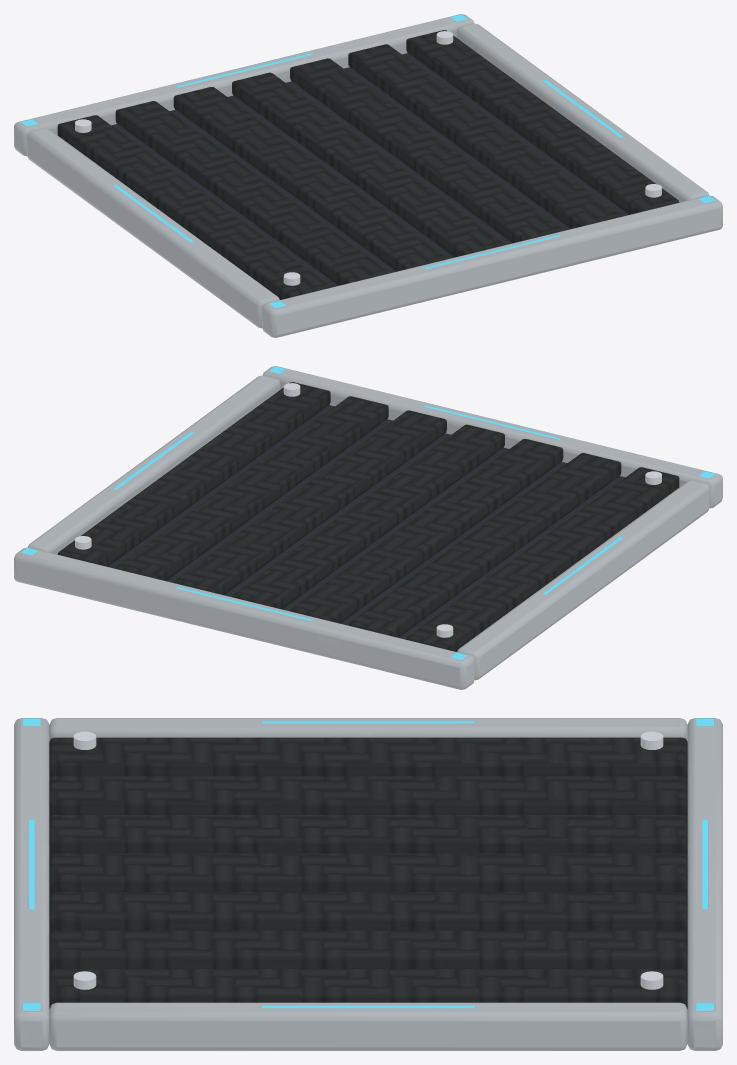
File: hull_enterprise_platform.glb
3 renders of one model, top to bottom at view 1: azimuth 30°, elevation 25°; view 2: azimuth 150°, elevation 25°; view 3: azimuth 270°, elevation 25°, orthographic. The views are drawn at different scales.
Parts seen in each view (by area): view 1: te_hull_enterprise_platform; view 2: te_hull_enterprise_platform; view 3: te_hull_enterprise_platform.
Part boxes in pixels (x1,y1,x2,y2): te_hull_enterprise_platform: (14, 14, 722, 337); te_hull_enterprise_platform: (14, 366, 722, 689); te_hull_enterprise_platform: (14, 718, 722, 1050).
Size of the model in its own units: 1 by 0.074 by 1.
1 material, 1 textured.
